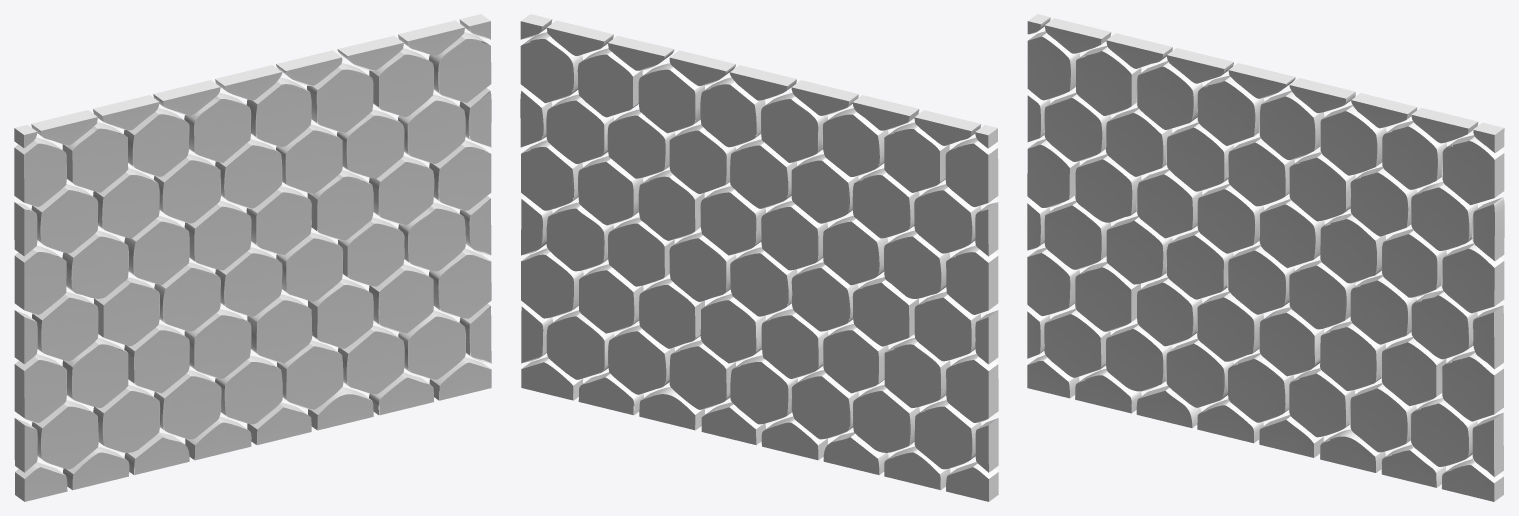
Rendered from 3Dhex.dae.
3 views of the same model, side by side, from view 1: azimuth 30°, elevation 25°; view 2: azimuth 150°, elevation 25°; view 3: azimuth 330°, elevation 25° (orthographic).
Visible parts, largest first — view 1: Artboard_1; view 2: Artboard_1; view 3: Artboard_1.
Part boxes in pixels (x1=…): Artboard_1: x1=14, y1=14, x2=491, y2=501; Artboard_1: x1=520, y1=14, x2=998, y2=501; Artboard_1: x1=1027, y1=14, x2=1504, y2=501.
Size of the model in its own units: 1025 by 768 by 39.22.
Materials: 3 (3 with a texture image).
